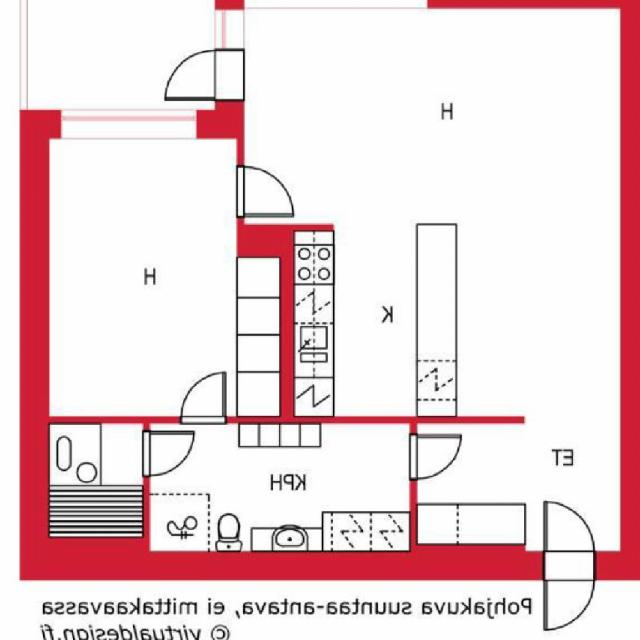door: (166, 50, 244, 99), (547, 551, 595, 628), (547, 503, 595, 580), (237, 167, 294, 216), (410, 435, 460, 479), (182, 373, 225, 423), (144, 432, 194, 475)
